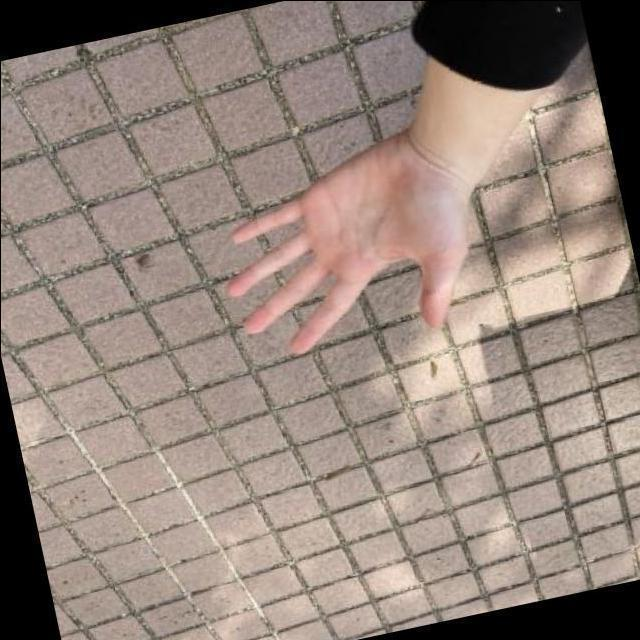hand: (188, 104, 506, 378)
